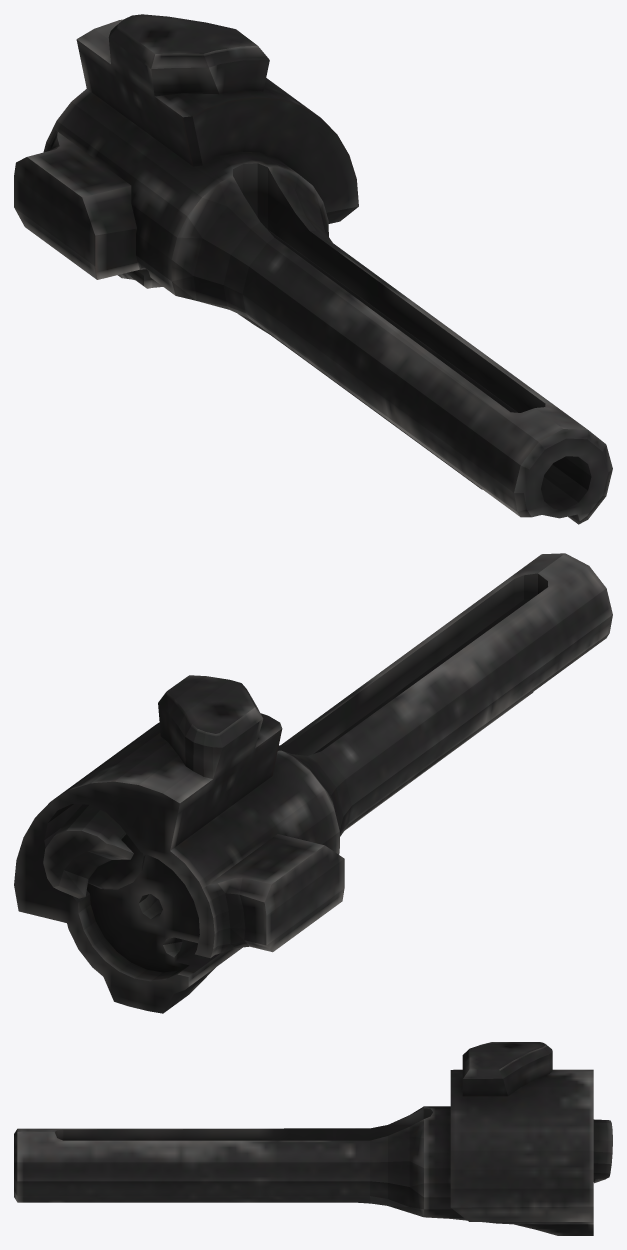
The picture shows the model from 3 angles, top to bottom: view 1: azimuth 30°, elevation 25°; view 2: azimuth 150°, elevation 25°; view 3: azimuth 270°, elevation 25°; orthographic projection. The views are drawn at different scales.
Visible parts, largest first — view 1: TW_64637076203536ad5600c990_PZ_Import; view 2: TW_64637076203536ad5600c990_PZ_Import; view 3: TW_64637076203536ad5600c990_PZ_Import.
Boxes of the visible parts, x1=… form: TW_64637076203536ad5600c990_PZ_Import: x1=14, y1=14, x2=612, y2=524; TW_64637076203536ad5600c990_PZ_Import: x1=14, y1=553, x2=612, y2=1013; TW_64637076203536ad5600c990_PZ_Import: x1=14, y1=1042, x2=612, y2=1235.
Bounding box in the file's own units: 0.0163 × 0.0524 × 0.0171.
Materials: 1 (1 with a texture image).
